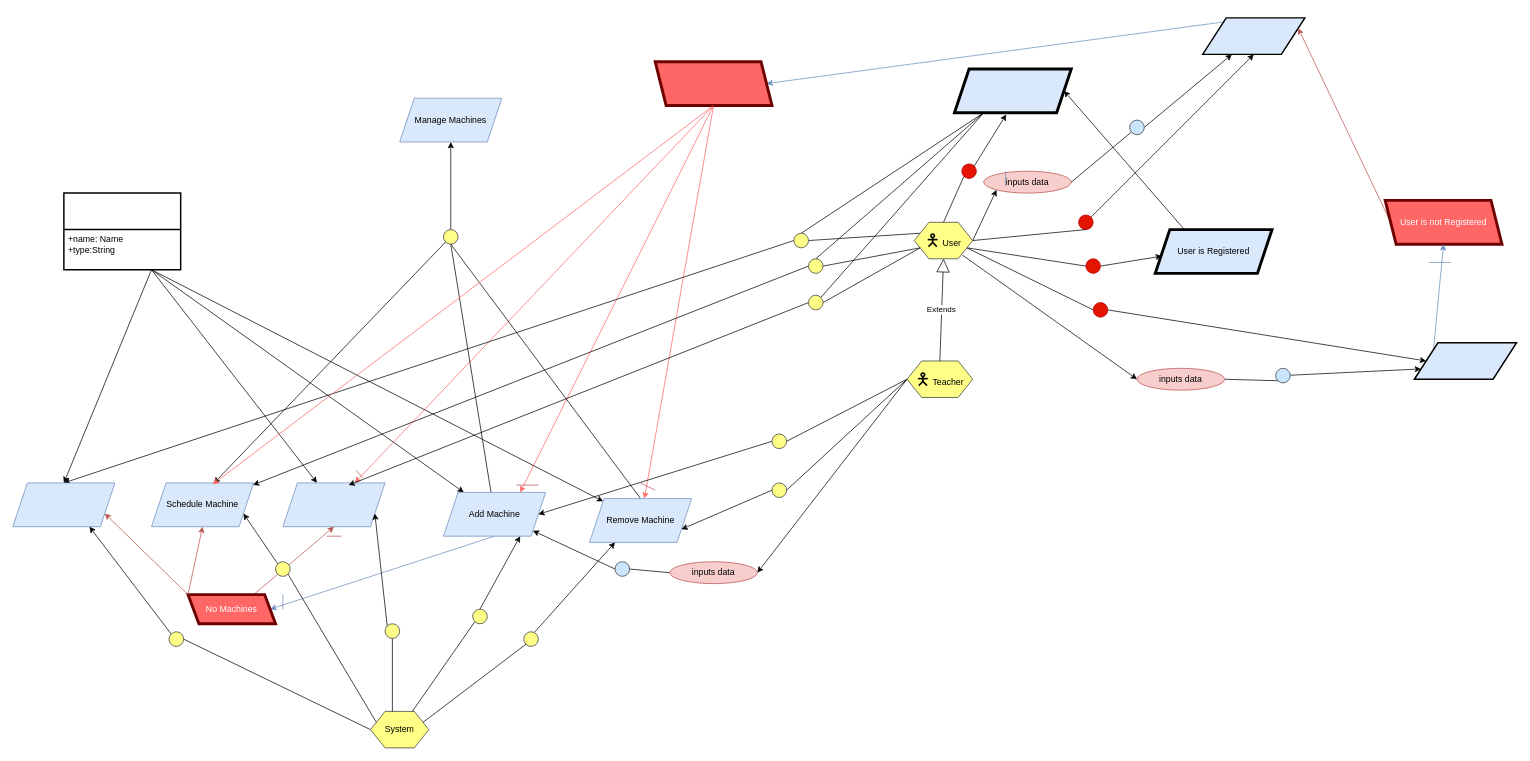
Image size: 1530x761. Some labels were removed from this diagram. Here are the shapes that lost their labels. From the top down, the box of each, then its label:
(1202, 17, 1305, 55): Login User
(653, 60, 773, 107): User is not Logged In
(953, 67, 1072, 114): User is Logged In
(63, 192, 181, 270): Machine
(1413, 342, 1517, 380): Register User
(12, 482, 115, 527): List Machines
(282, 482, 385, 527): Check Status
